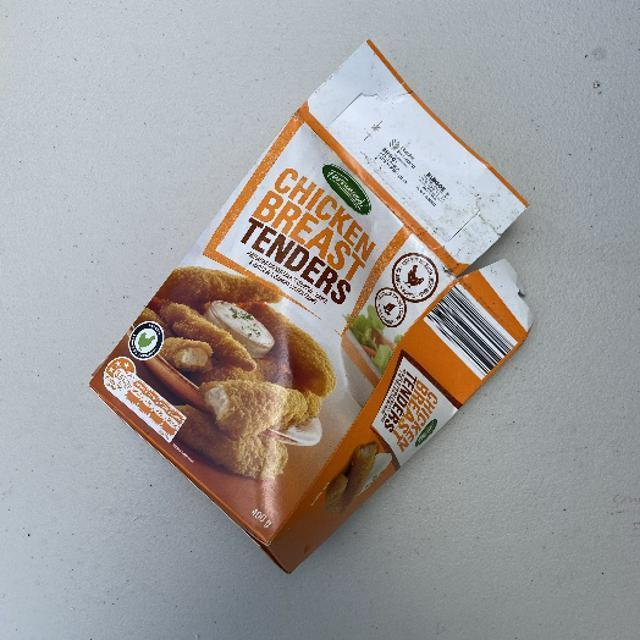Biodegradable: (82, 24, 602, 584)
